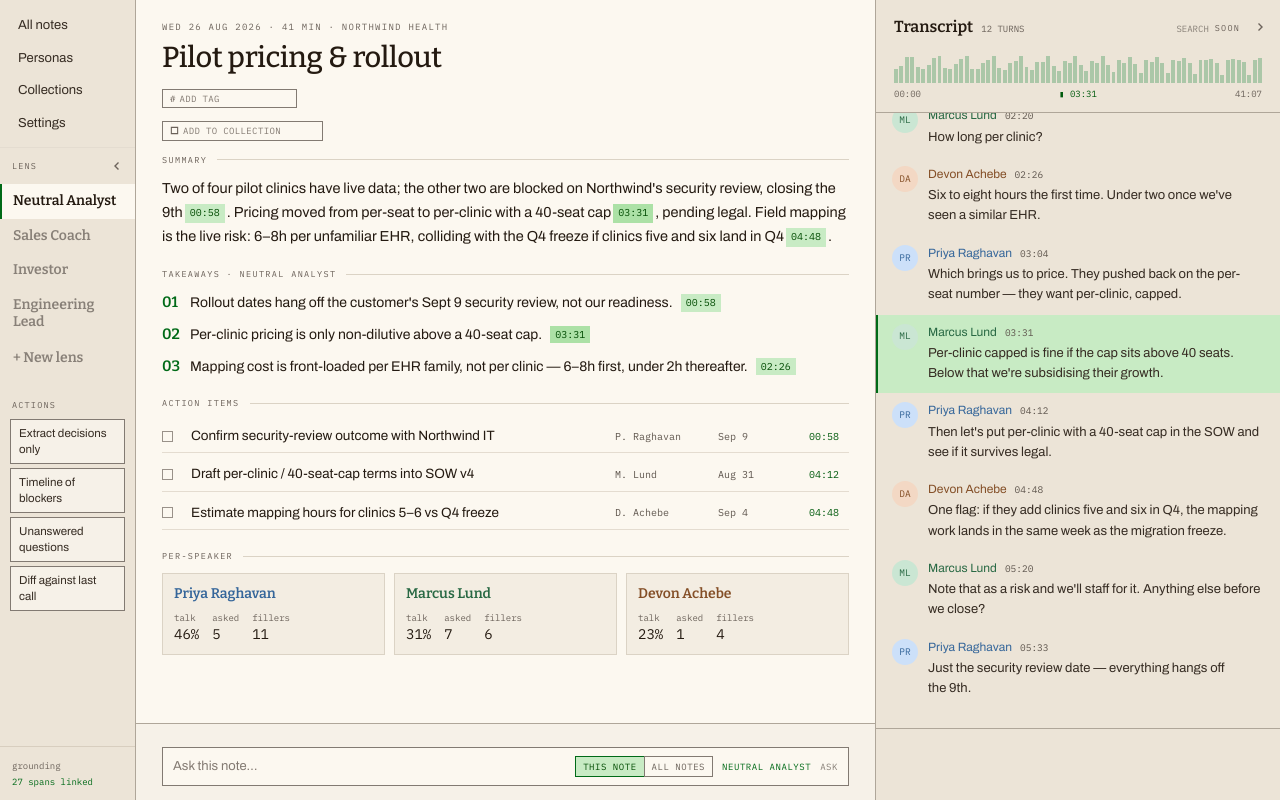
Test case: remembering the choice › renders both panes shown when storage throws
(page scrolled)
expect the element with id "transcript-pane" is shown: met, box [876,0,1279,799]
expect the element with id "lens-pane" is shown: met, box [0,0,136,799]
Note: A blocked store still lets the reader hide a pane for this visit.
What coordinates should you click on to do the following:
click the button named "Hide transcript"
I would click on:
 (1260, 27)
Its box is [1248,15,1272,39].
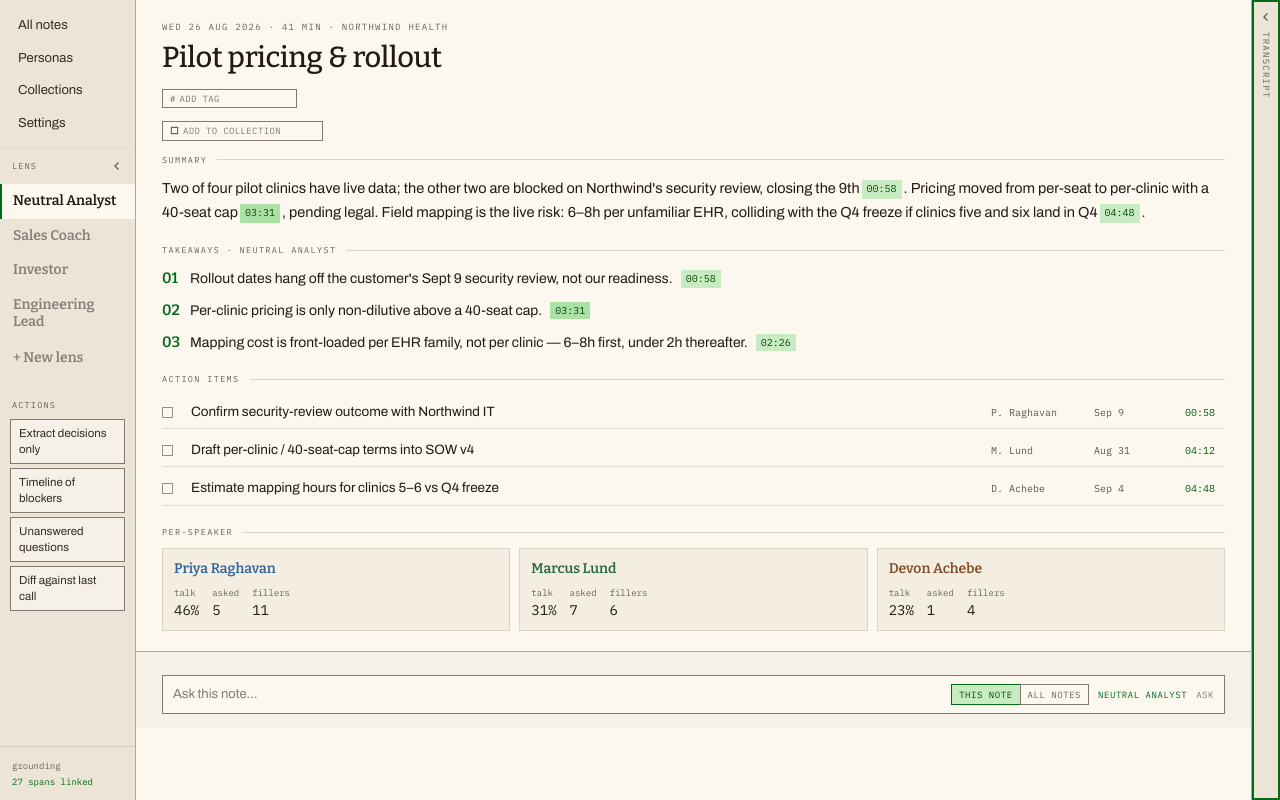
expect the button with id "transcript-pane" is gone: met
